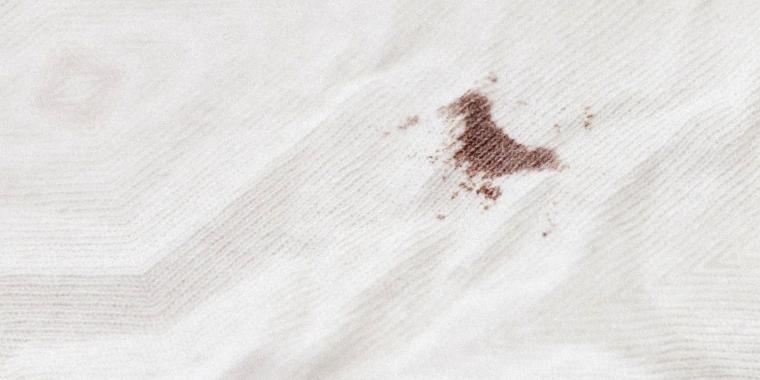stain: (444, 88, 565, 205)
